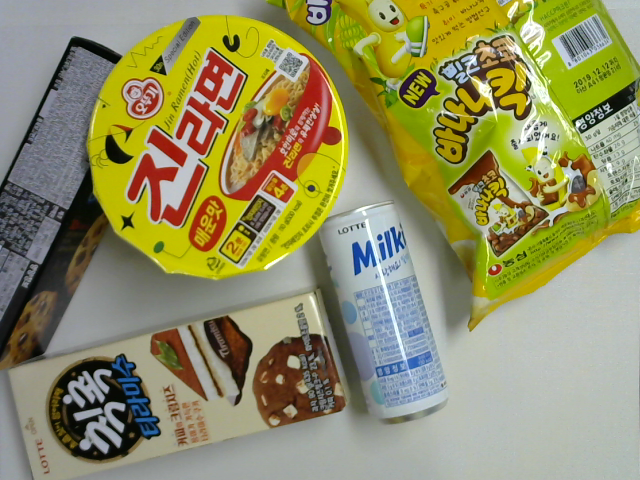Banana_Kick: (264, 1, 640, 333)
Chicchok_Original_2400: (1, 36, 129, 375)
Chicchok_Tiramisu: (1, 285, 353, 479)
Jinlamyeon_Hot_Taste_Large_Cup: (83, 13, 351, 285)
Milkies_250ml: (316, 199, 451, 423)
